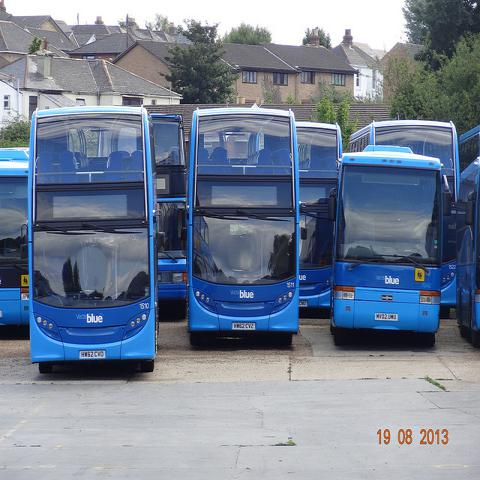bus: (20, 107, 159, 374), (191, 100, 302, 338), (328, 144, 452, 346), (349, 119, 458, 202), (297, 122, 344, 312), (150, 113, 187, 305), (0, 148, 30, 327), (455, 157, 479, 349), (458, 124, 480, 173)
